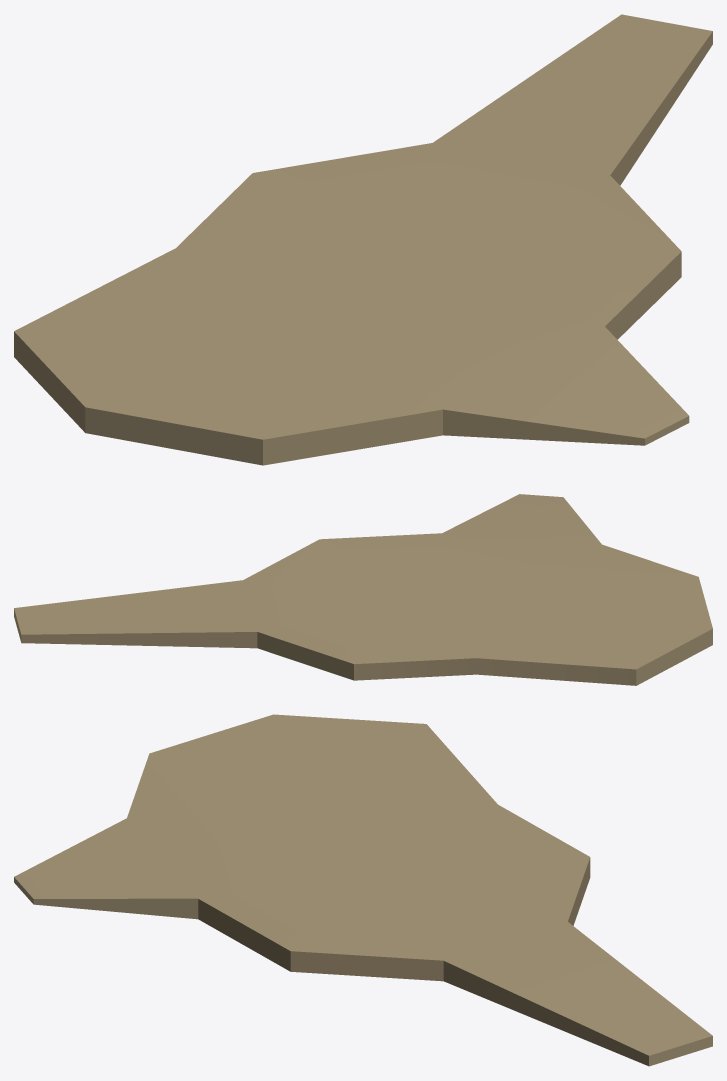
Rendered from Gluttony_BrokenWineGlassSpill.fbx.
The picture shows the model from 3 angles, top to bottom: view 1: azimuth 30°, elevation 25°; view 2: azimuth 150°, elevation 25°; view 3: azimuth 270°, elevation 25°; orthographic projection. The views are drawn at different scales.
Parts seen in each view (by area): view 1: wine_spill; view 2: wine_spill; view 3: wine_spill.
Part boxes in pixels (x1,y1,x2,y2): wine_spill: (14, 14, 712, 465); wine_spill: (14, 494, 712, 685); wine_spill: (14, 714, 712, 1066).
Size of the model in its own units: 1 by 0.0287 by 0.8814.
